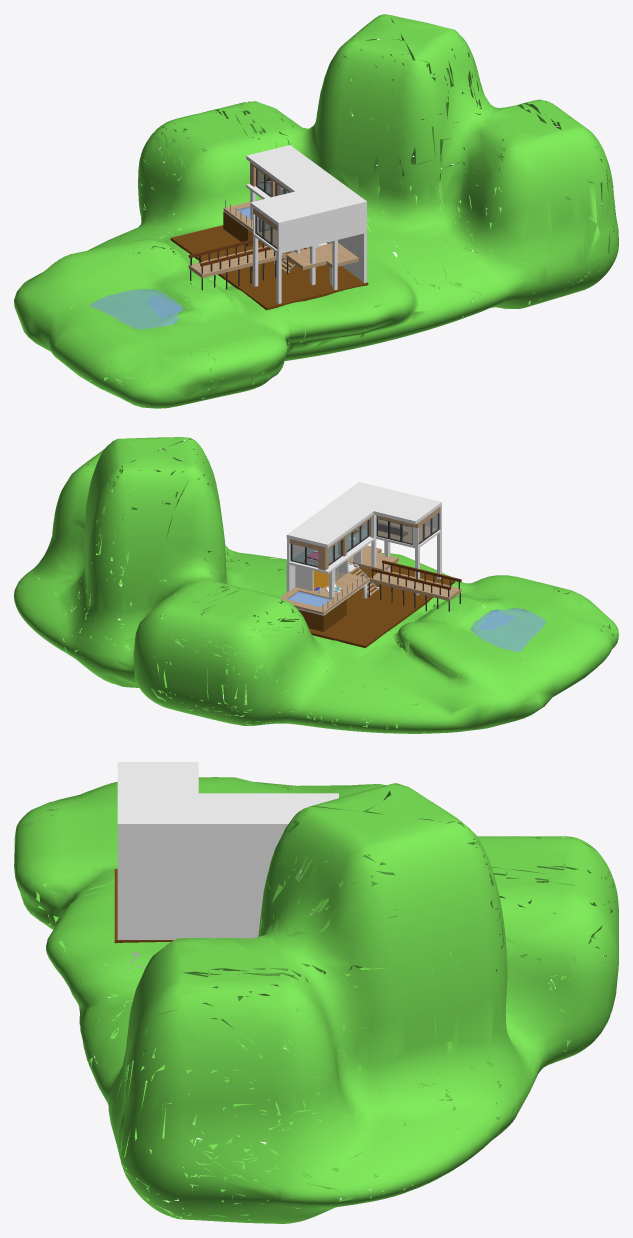
Rendered from luna-house.glb.
3 views of the same model, one above another, from view 1: azimuth 30°, elevation 25°; view 2: azimuth 150°, elevation 25°; view 3: azimuth 270°, elevation 25° (orthographic). The views are drawn at different scales.
Visible parts, largest first — view 1: Landscape, Floor, Ceiling, Lake, Side Wall, Ceiling.001, Bridge, Bottom Floor, Cube.023; view 2: Landscape, Floor, Ceiling, Lake, Ceiling.001, Bridge, Bottom Floor.004, Brick, Top Level Floor, Window.001, Plane.014, Wall.009; view 3: Landscape, Cube.023, Ceiling, Baxk wall, Ceiling.001.
Boxes of the visible parts, x1=… form: Landscape: x1=14, y1=14, x2=618, y2=408; Floor: x1=170, y1=225, x2=368, y2=310; Ceiling: x1=246, y1=145, x2=366, y2=215; Lake: x1=90, y1=289, x2=182, y2=329; Side Wall: x1=280, y1=205, x2=365, y2=251; Ceiling.001: x1=250, y1=191, x2=323, y2=226; Bridge: x1=188, y1=246, x2=286, y2=278; Bottom Floor: x1=315, y1=243, x2=358, y2=267; Cube.023: x1=338, y1=234, x2=361, y2=280; Landscape: x1=14, y1=437, x2=618, y2=733; Floor: x1=309, y1=565, x2=455, y2=648; Ceiling: x1=286, y1=482, x2=399, y2=547; Lake: x1=470, y1=608, x2=546, y2=651; Ceiling.001: x1=373, y1=492, x2=441, y2=524; Bridge: x1=370, y1=569, x2=461, y2=600; Bottom Floor.004: x1=298, y1=570, x2=369, y2=602; Brick: x1=298, y1=599, x2=346, y2=631; Top Level Floor: x1=287, y1=536, x2=376, y2=573; Window.001: x1=292, y1=544, x2=318, y2=566; Plane.014: x1=293, y1=528, x2=366, y2=565; Wall.009: x1=295, y1=566, x2=313, y2=591; Landscape: x1=14, y1=777, x2=618, y2=1223; Cube.023: x1=125, y1=868, x2=313, y2=968; Ceiling: x1=117, y1=793, x2=338, y2=828; Baxk wall: x1=121, y1=829, x2=326, y2=865; Ceiling.001: x1=117, y1=762, x2=198, y2=793.
Bounding box in the file's own units: 5692 × 2299 × 3708.
Materials: 23 (1 with a texture image).
